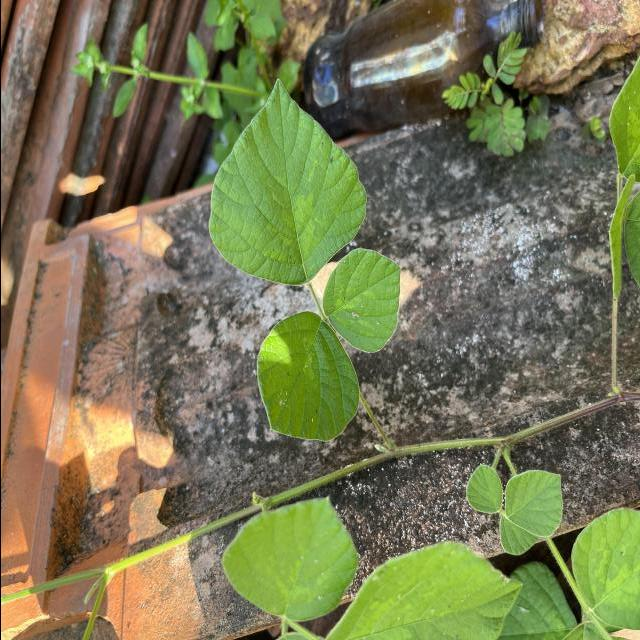Pseudarthria viscida: (205, 76, 403, 444)
